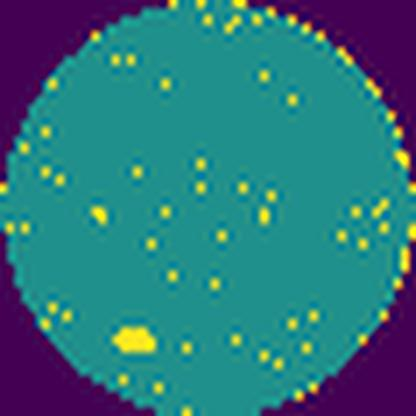Loc: (115, 324, 161, 354)
